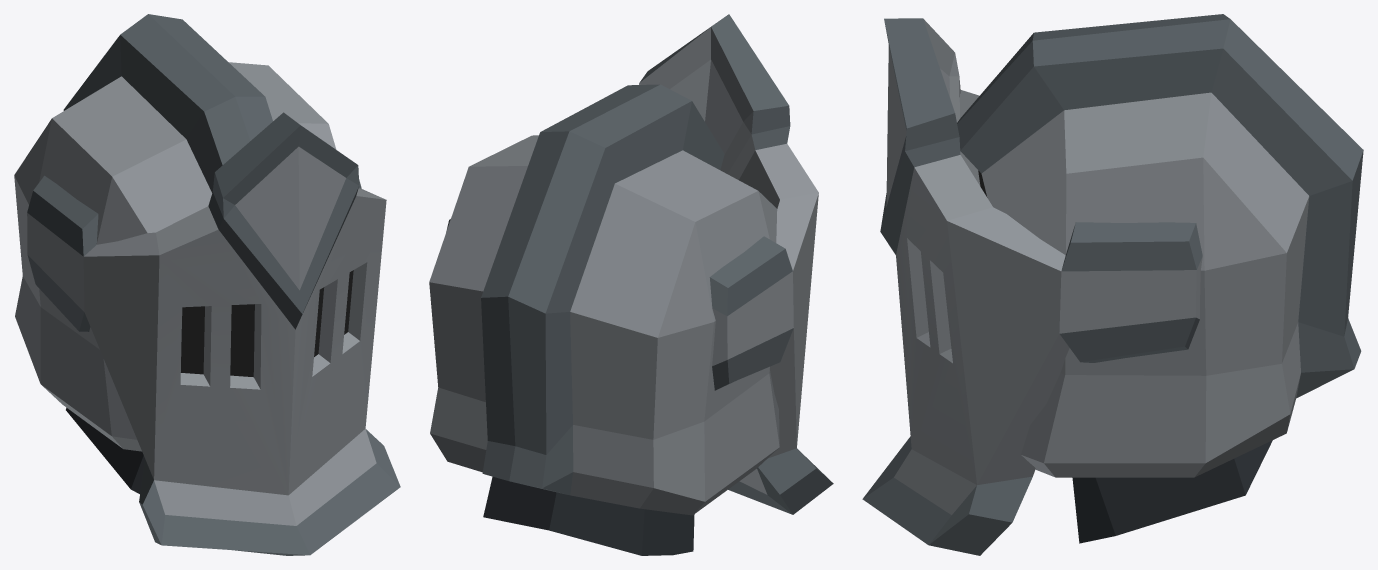
File: Chr_Head_No_Elements_Male_02_Static.fbx
3 views of the same model, side by side, from view 1: azimuth 30°, elevation 25°; view 2: azimuth 150°, elevation 25°; view 3: azimuth 270°, elevation 25° (orthographic). The views are drawn at different scales.
Parts seen in each view (by area): view 1: Chr_Head_No_Elements_Male_02_Static; view 2: Chr_Head_No_Elements_Male_02_Static; view 3: Chr_Head_No_Elements_Male_02_Static.
Boxes of the visible parts, x1,y1,x2,y2 form: Chr_Head_No_Elements_Male_02_Static: (14, 14, 400, 555); Chr_Head_No_Elements_Male_02_Static: (429, 14, 833, 555); Chr_Head_No_Elements_Male_02_Static: (862, 14, 1363, 555).
Size of the model in its own units: 0.2549 by 0.3923 by 0.3503.
